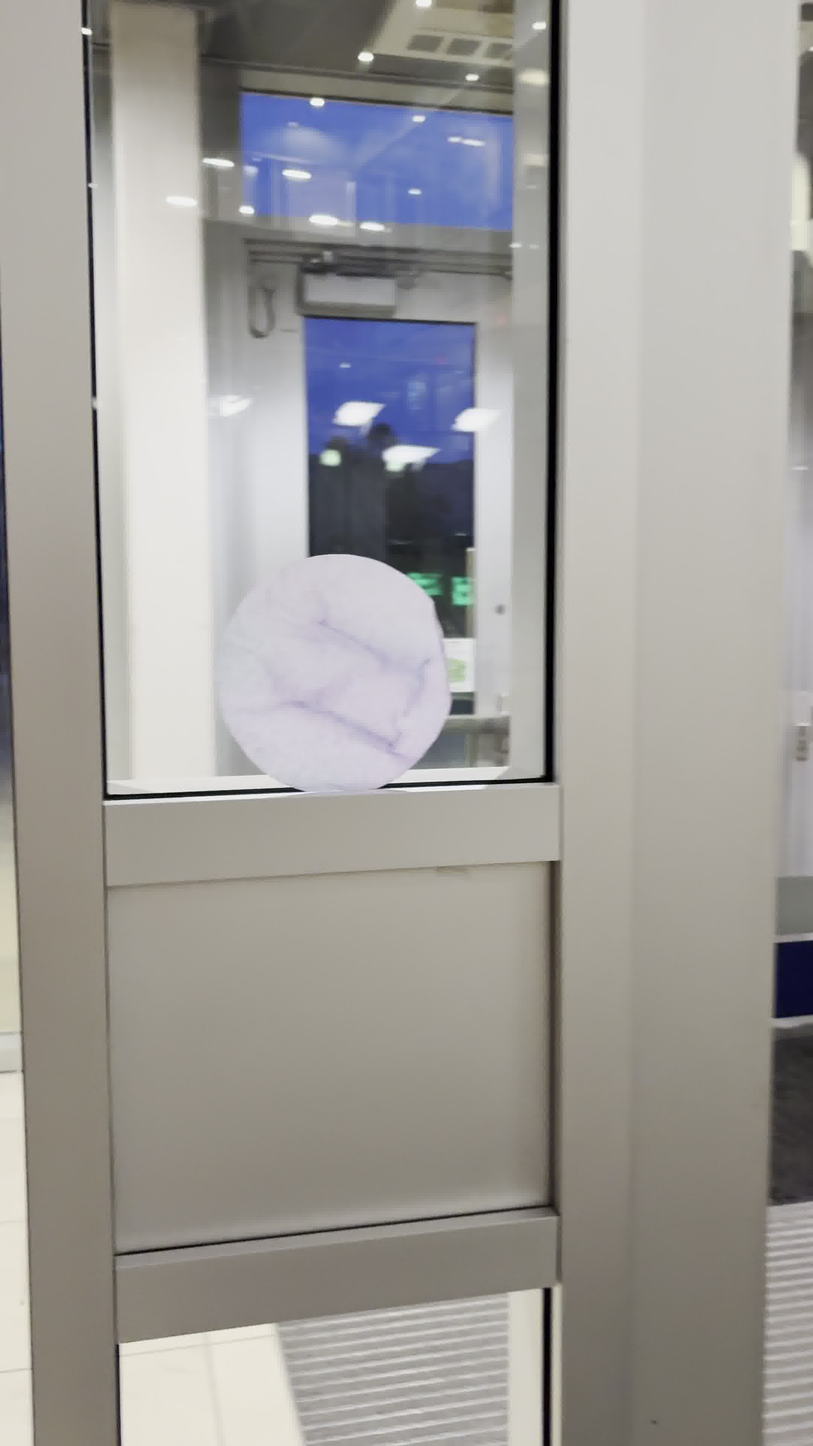Target: (216, 552, 451, 792)
